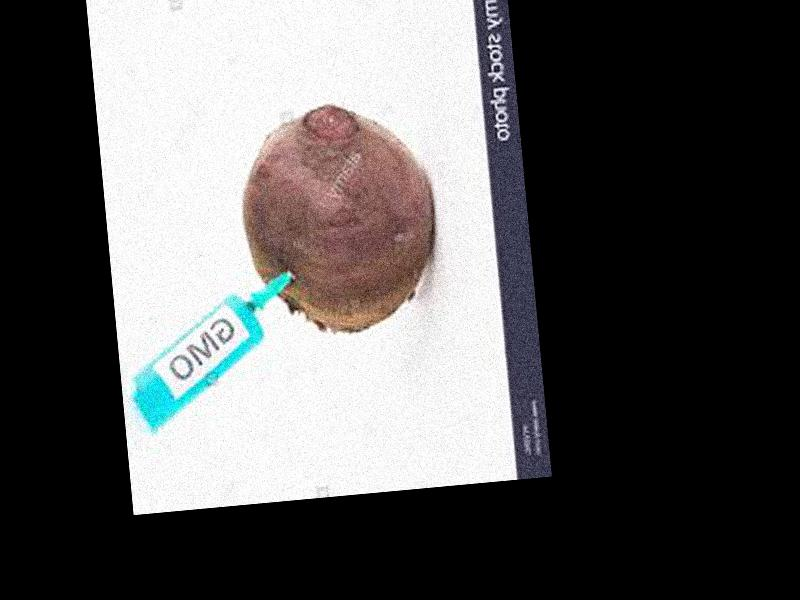Beet: (232, 97, 445, 337)
